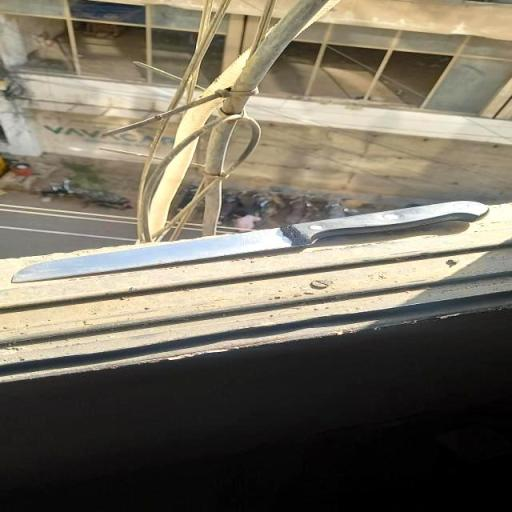knife: (12, 200, 490, 283)
